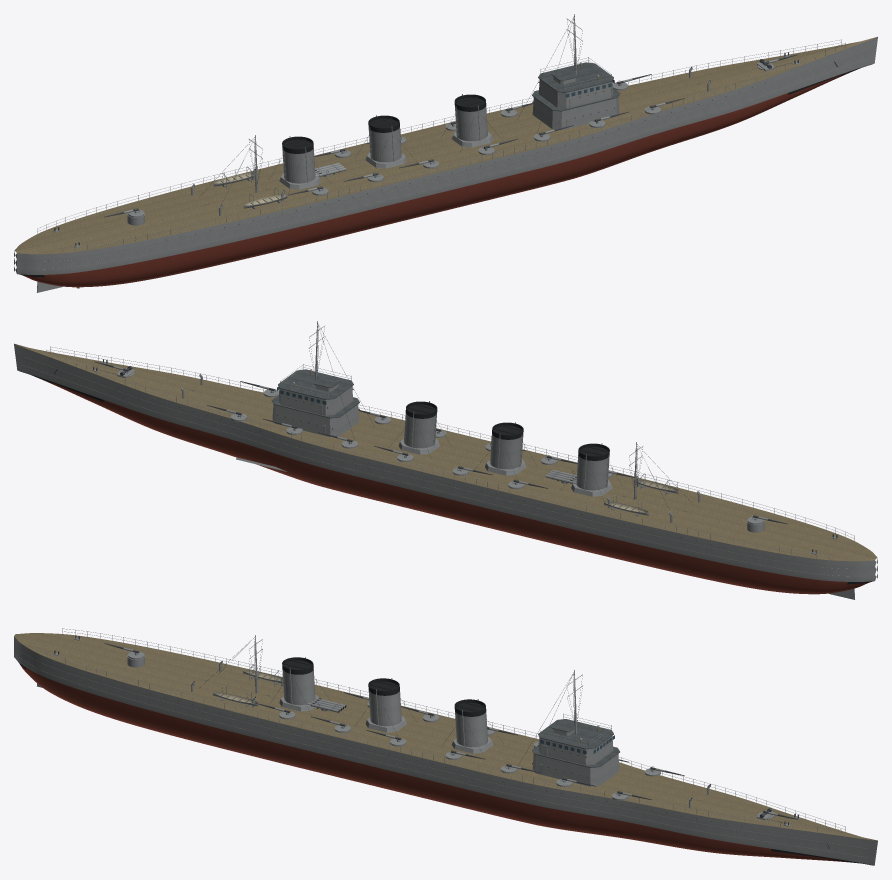
Rendered from svetlana_1913.glb.
3 renders of one model, top to bottom at view 1: azimuth 30°, elevation 25°; view 2: azimuth 150°, elevation 25°; view 3: azimuth 330°, elevation 25°, orthographic.
Visible parts, largest first — view 1: Svetlana class; view 2: Svetlana class; view 3: Svetlana class.
Part boxes in pixels (x1,y1,x2,y2): Svetlana class: (14, 14, 877, 292); Svetlana class: (14, 321, 877, 599); Svetlana class: (14, 628, 877, 865).
Size of the model in its own units: 158 by 26.27 by 15.49.
Materials: 9 (8 with a texture image).
